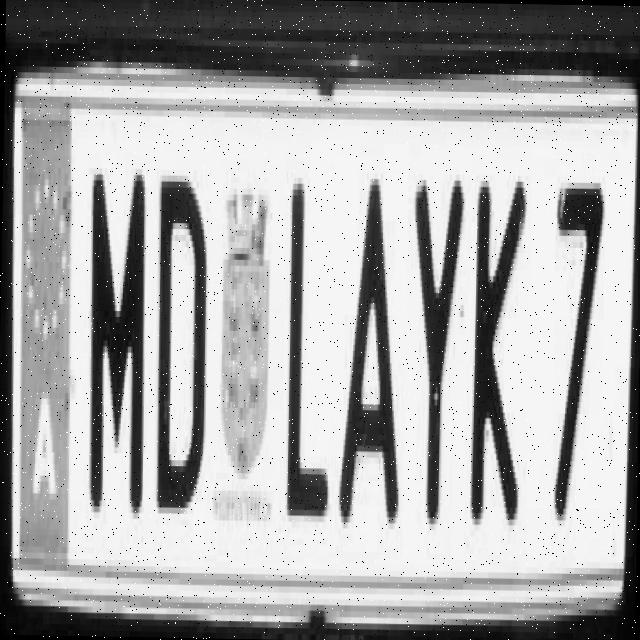Autriche: (12, 98, 76, 569)
EU: (8, 78, 638, 608)
